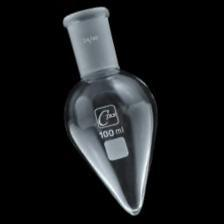Pear shaped flask: (38, 4, 167, 217)
